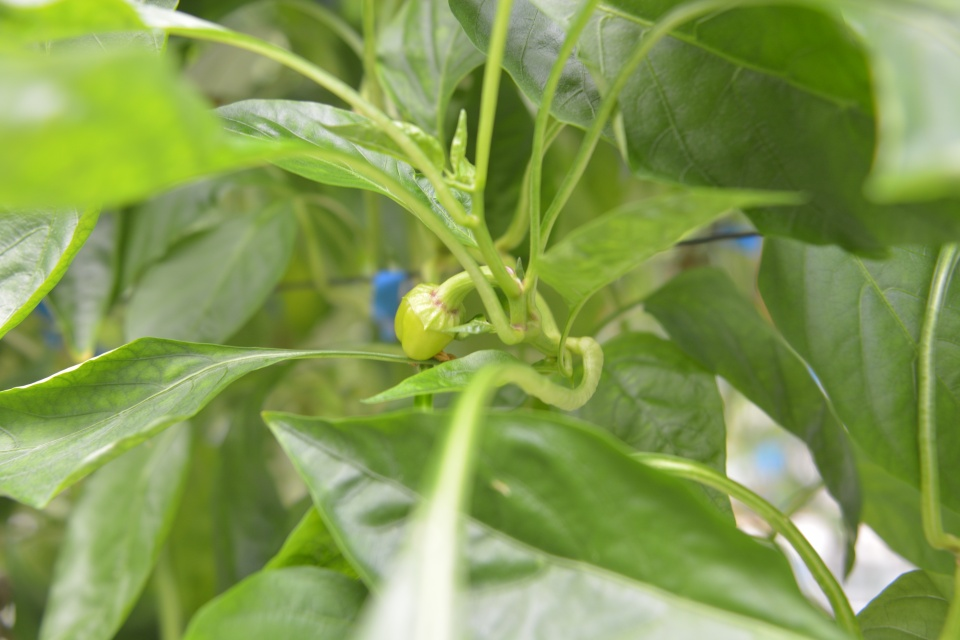immature: (390, 277, 468, 362)
